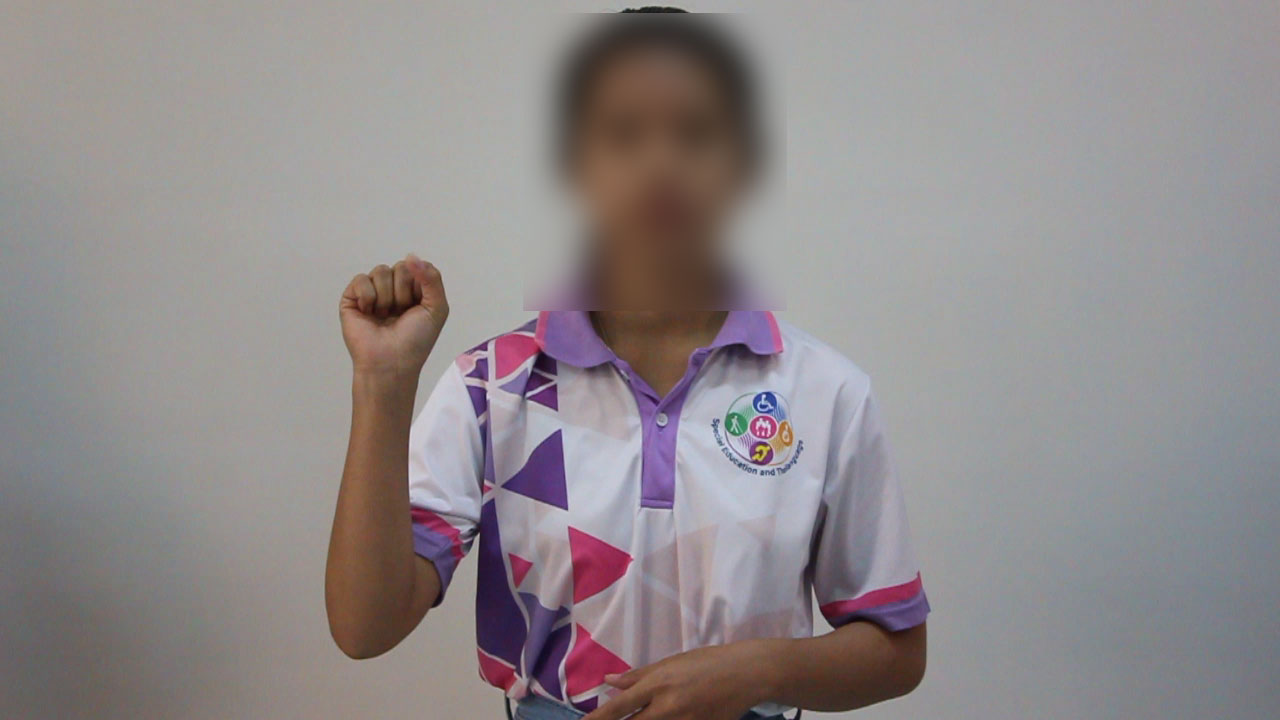sor: (324, 237, 468, 383)
